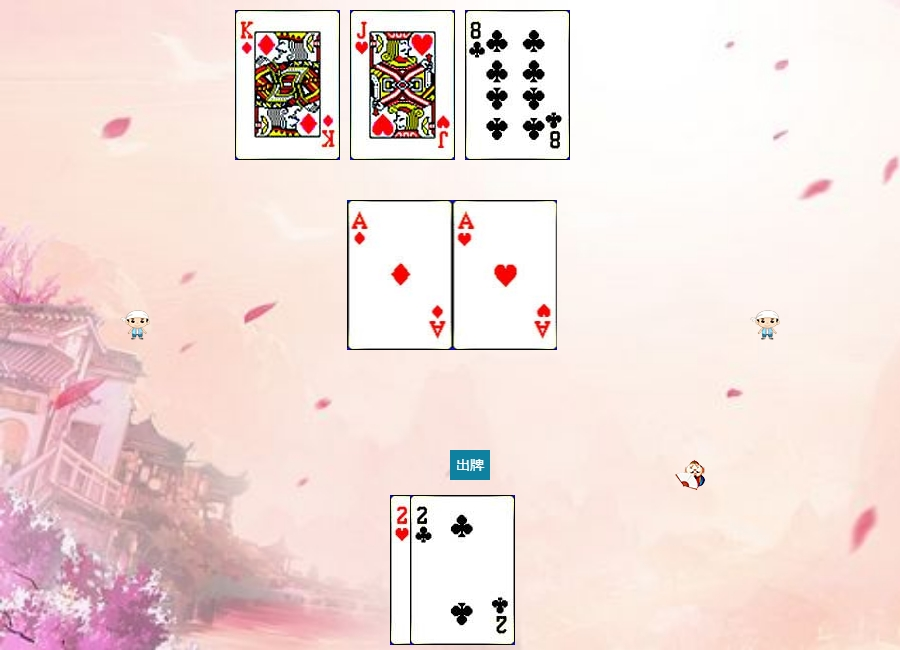11~3: (350, 10, 455, 160)
13~1: (235, 10, 340, 160)
14~1: (348, 200, 453, 350)
14~3: (453, 200, 558, 350)
15~2: (410, 495, 515, 645)
15~3: (390, 495, 495, 645)
8~2: (465, 10, 570, 160)
